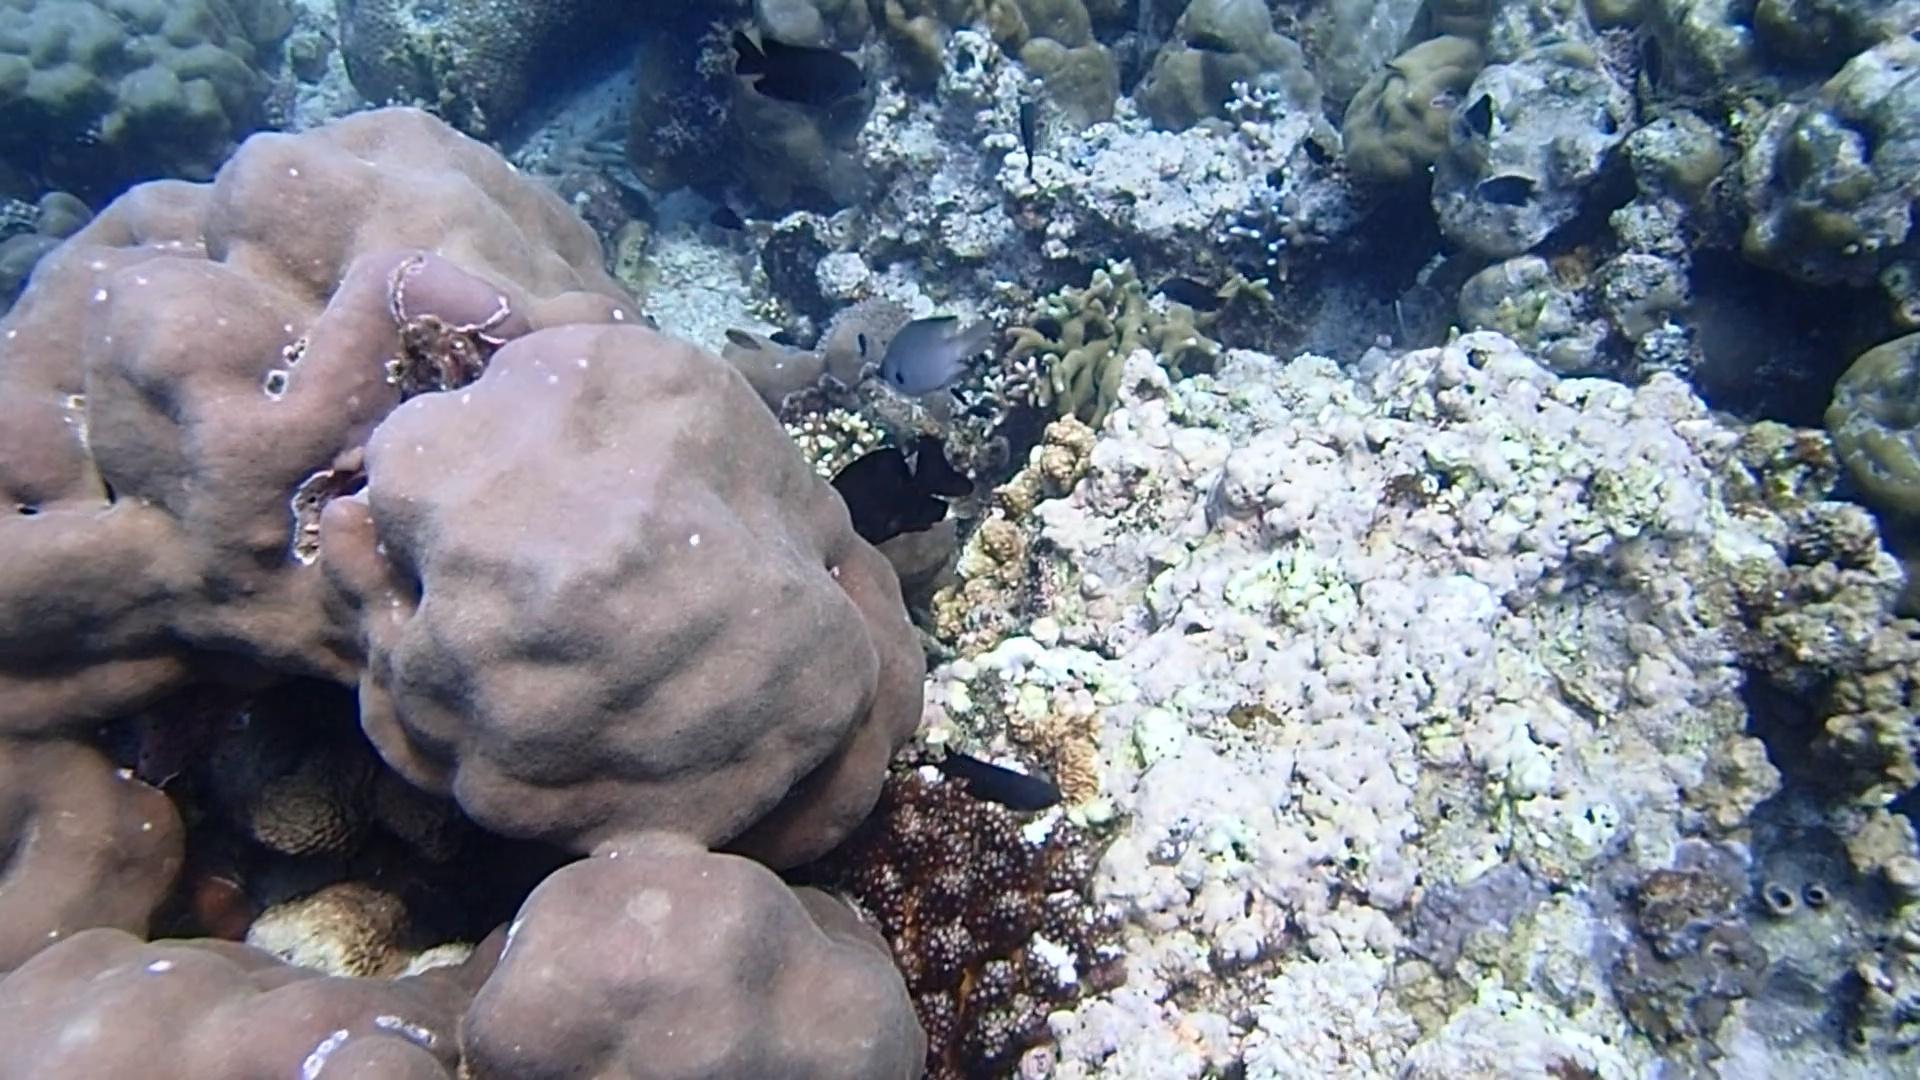Dark Fish: (816, 427, 984, 546), (727, 22, 878, 124), (936, 738, 1064, 823), (1149, 268, 1237, 320), (1629, 24, 1676, 100), (1473, 167, 1545, 215), (1464, 86, 1498, 150), (1300, 127, 1338, 174), (1033, 307, 1069, 344)
Light Fish - Dark Fin: (872, 306, 1007, 397)
